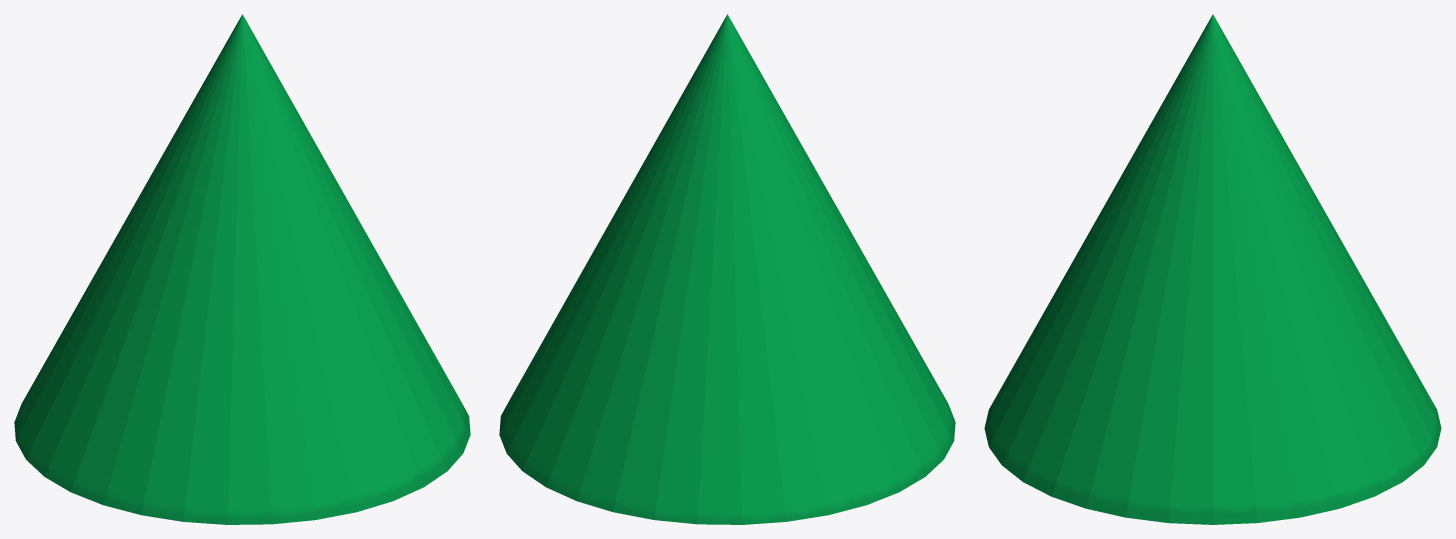
3 views of the same model, side by side, from view 1: azimuth 30°, elevation 25°; view 2: azimuth 150°, elevation 25°; view 3: azimuth 270°, elevation 25° (orthographic).
Parts seen in each view (by area): view 1: Конус; view 2: Конус; view 3: Конус.
Part boxes in pixels (x1,y1,x2,y2): Конус: (14, 14, 470, 524); Конус: (499, 14, 955, 524); Конус: (984, 14, 1441, 524).
Size of the model in its own units: 2 by 2 by 2.
1 material, 1 textured.
